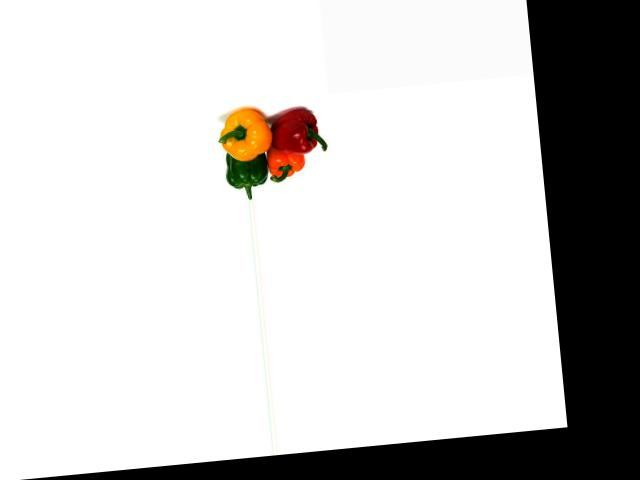bell_pepper: (212, 104, 276, 163)
